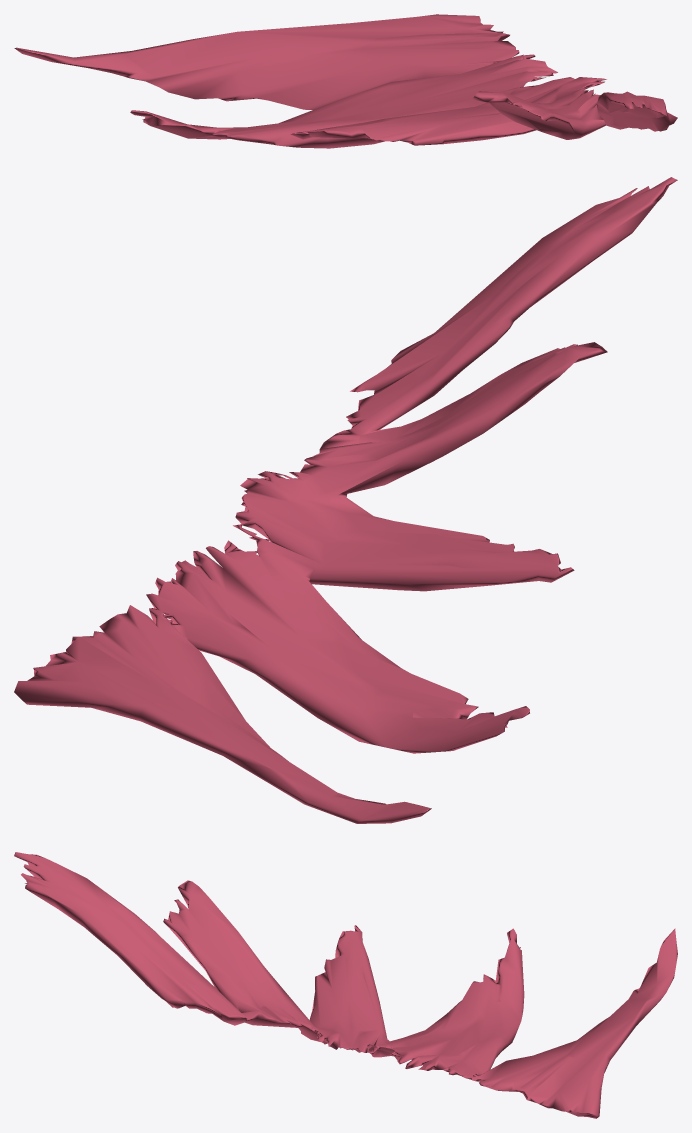
The picture shows the model from 3 angles, top to bottom: view 1: azimuth 30°, elevation 25°; view 2: azimuth 150°, elevation 25°; view 3: azimuth 270°, elevation 25°; orthographic projection. The views are drawn at different scales.
Visible parts, largest first — view 1: 右侧胸横肌; view 2: 右侧胸横肌; view 3: 右侧胸横肌.
Boxes of the visible parts, x1=… form: 右侧胸横肌: x1=14, y1=14, x2=677, y2=148; 右侧胸横肌: x1=14, y1=177, x2=677, y2=823; 右侧胸横肌: x1=14, y1=852, x2=677, y2=1118.
Bounding box in the file's own units: 0.1259 × 0.0744 × 0.2196.
